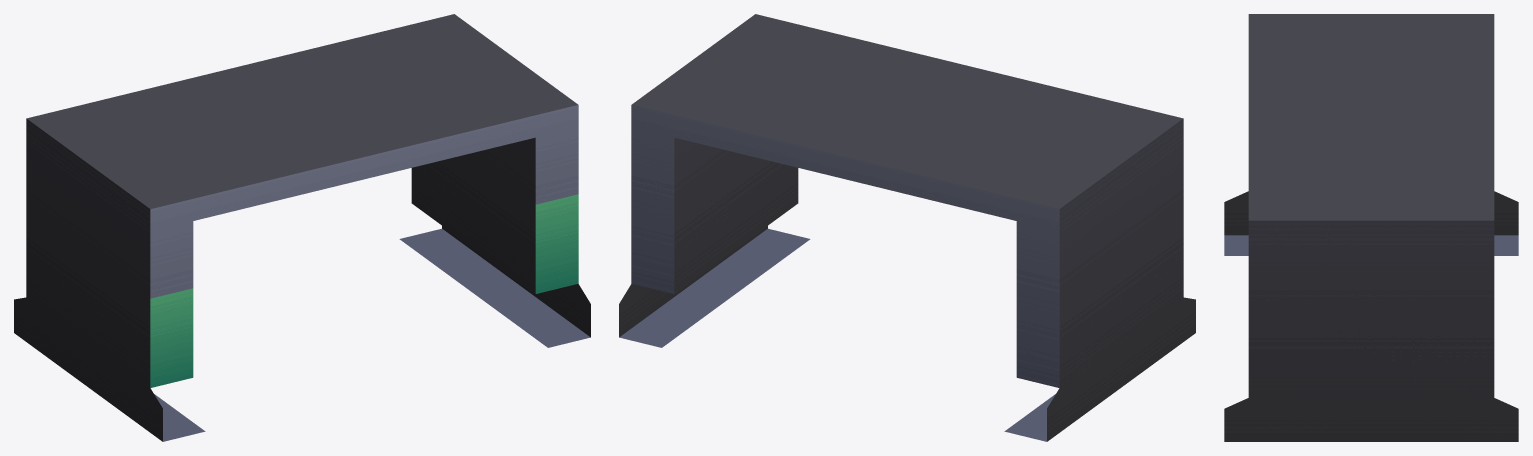
The model's file is group.001_lev2.glb.
3 renders of one model, left to right at view 1: azimuth 30°, elevation 25°; view 2: azimuth 150°, elevation 25°; view 3: azimuth 270°, elevation 25°, orthographic.
Visible parts, largest first — view 1: group.001_lev2; view 2: group.001_lev2; view 3: group.001_lev2.
Part boxes in pixels (x1,y1,x2,y2): group.001_lev2: (14, 14, 590, 441); group.001_lev2: (619, 14, 1195, 441); group.001_lev2: (1224, 14, 1518, 441).
Bounding box in the file's own units: 8.04 × 4.01 × 4.84.
Materials: 1 (1 with a texture image).
